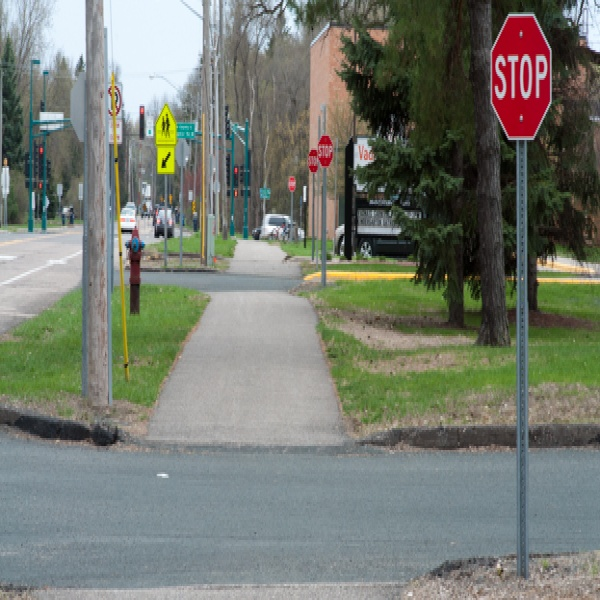stop: (487, 14, 554, 141)
